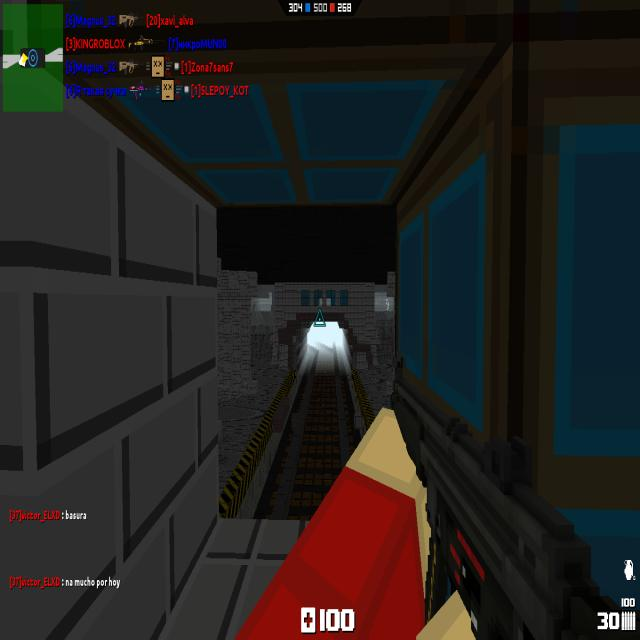enemy: (386, 298, 390, 312)
